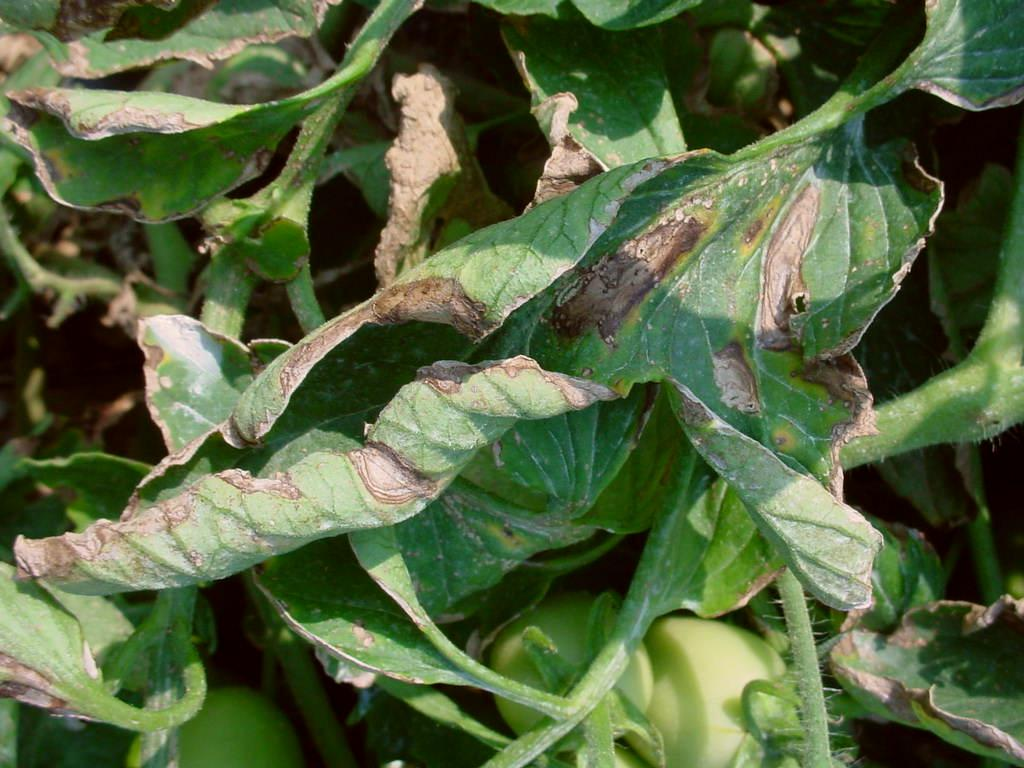Tomato leaf bacterial spot: (16, 49, 948, 640)
